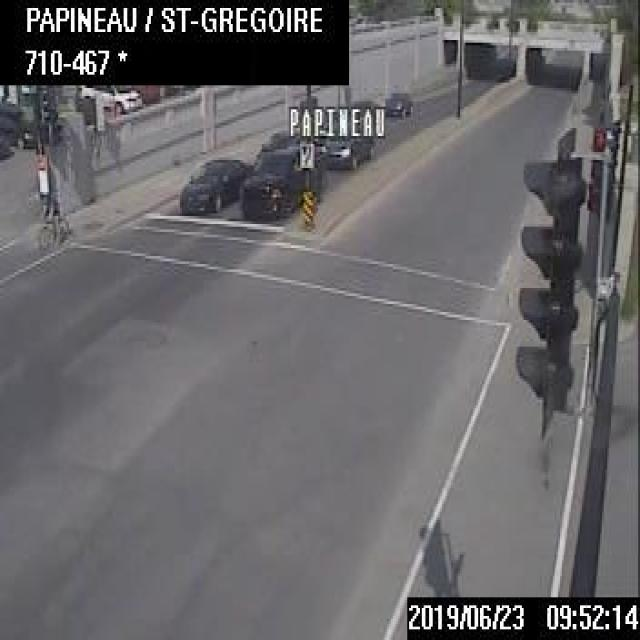cyclist: (33, 192, 71, 251)
vehicle: (241, 134, 324, 226), (178, 155, 250, 216), (322, 126, 376, 174), (77, 84, 143, 118), (0, 99, 35, 149), (386, 88, 410, 119)
